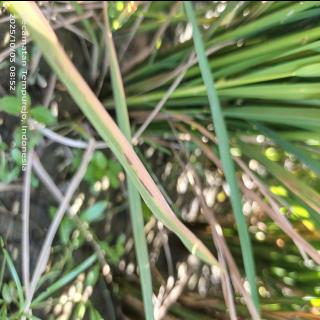Hawar-Daun: (62, 51, 216, 262)
